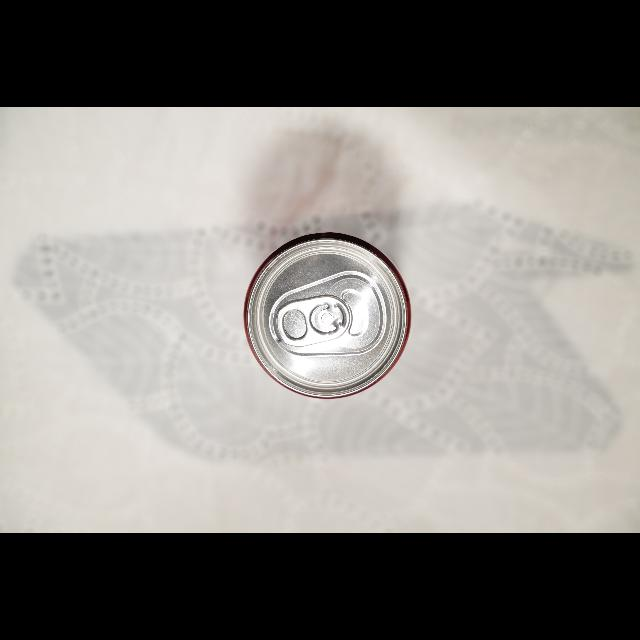coca_cola: (244, 232, 412, 400)
